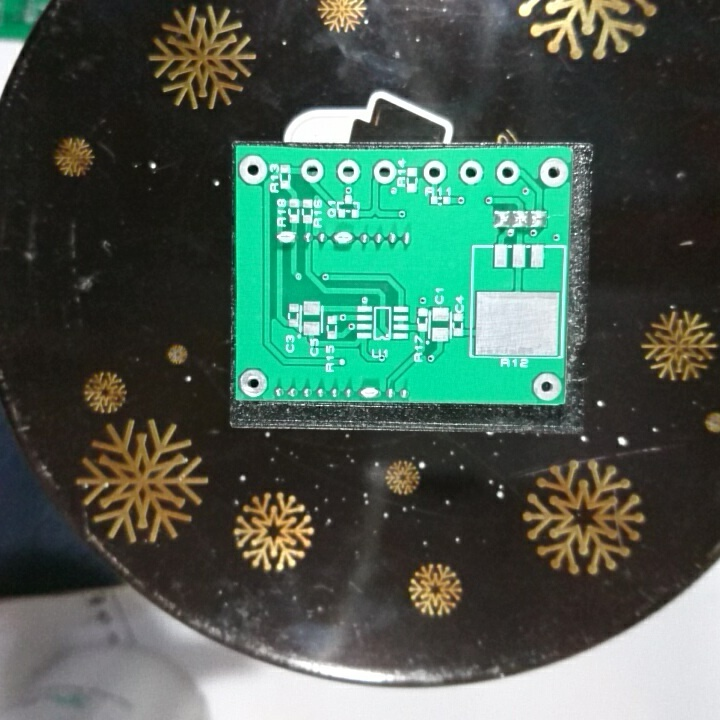F: (237, 152, 270, 189), (236, 366, 271, 400), (537, 155, 570, 189), (530, 372, 565, 403), (457, 157, 485, 188), (334, 158, 364, 186), (494, 158, 521, 187), (421, 158, 448, 187), (371, 158, 397, 186), (299, 157, 325, 184)
P: (329, 229, 355, 249), (270, 229, 300, 246), (357, 383, 382, 401)
